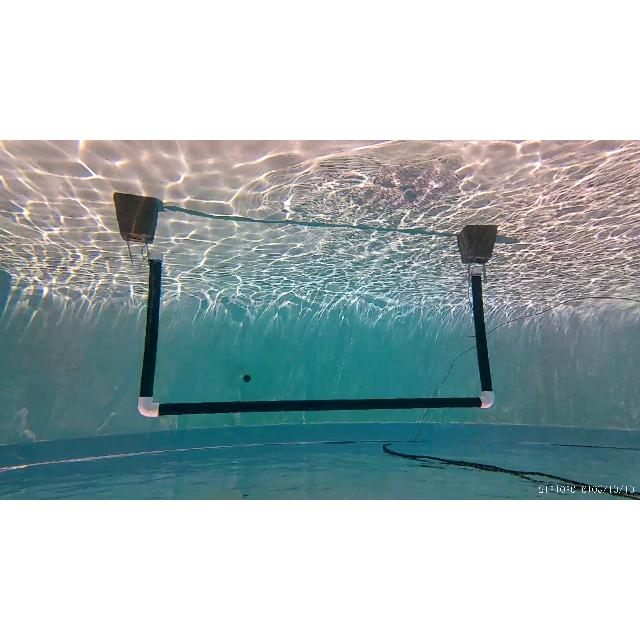prequal gate: (140, 252, 494, 416)
prequal gate leg l: (462, 249, 500, 416)
prequal gate leg r: (135, 244, 177, 423)
